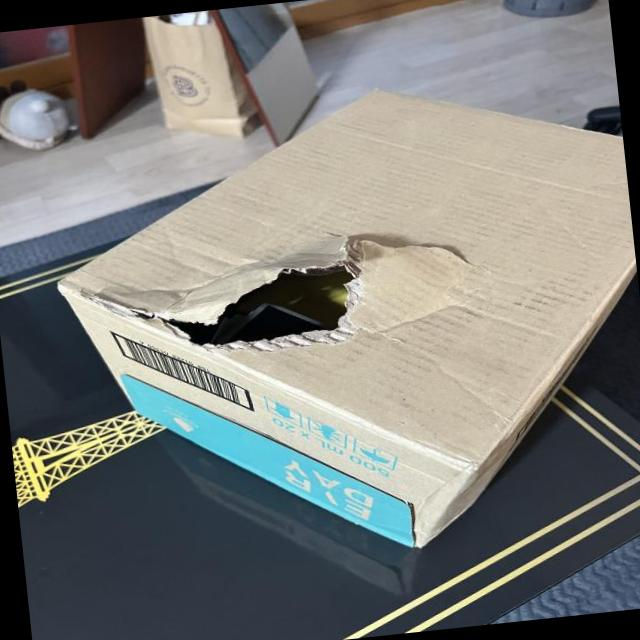box: (59, 87, 640, 551)
tear: (164, 264, 356, 345)
